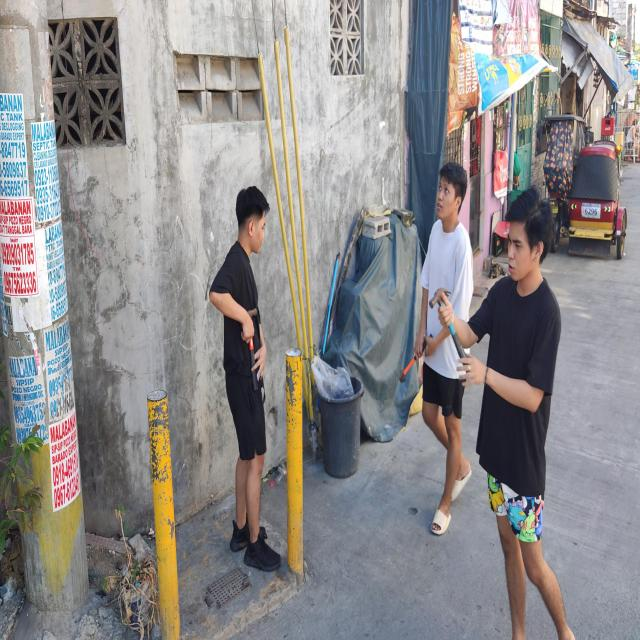hammer: (429, 288, 469, 373), (399, 334, 433, 383), (247, 308, 258, 391)
